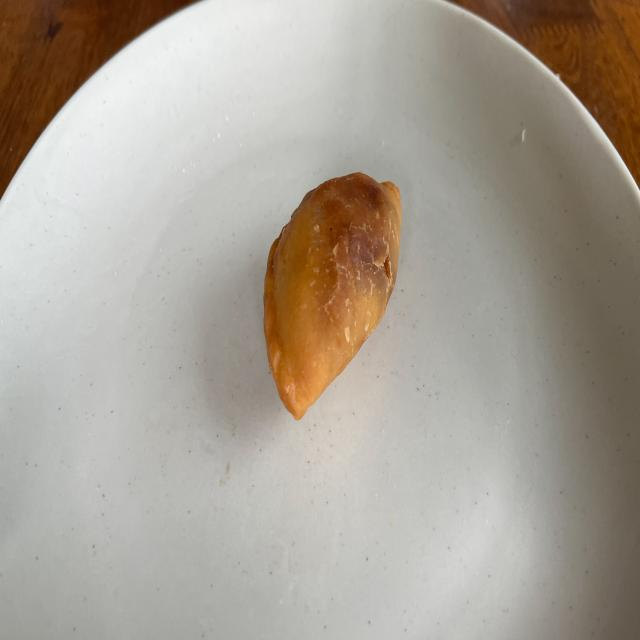karipap: (264, 173, 401, 420)
